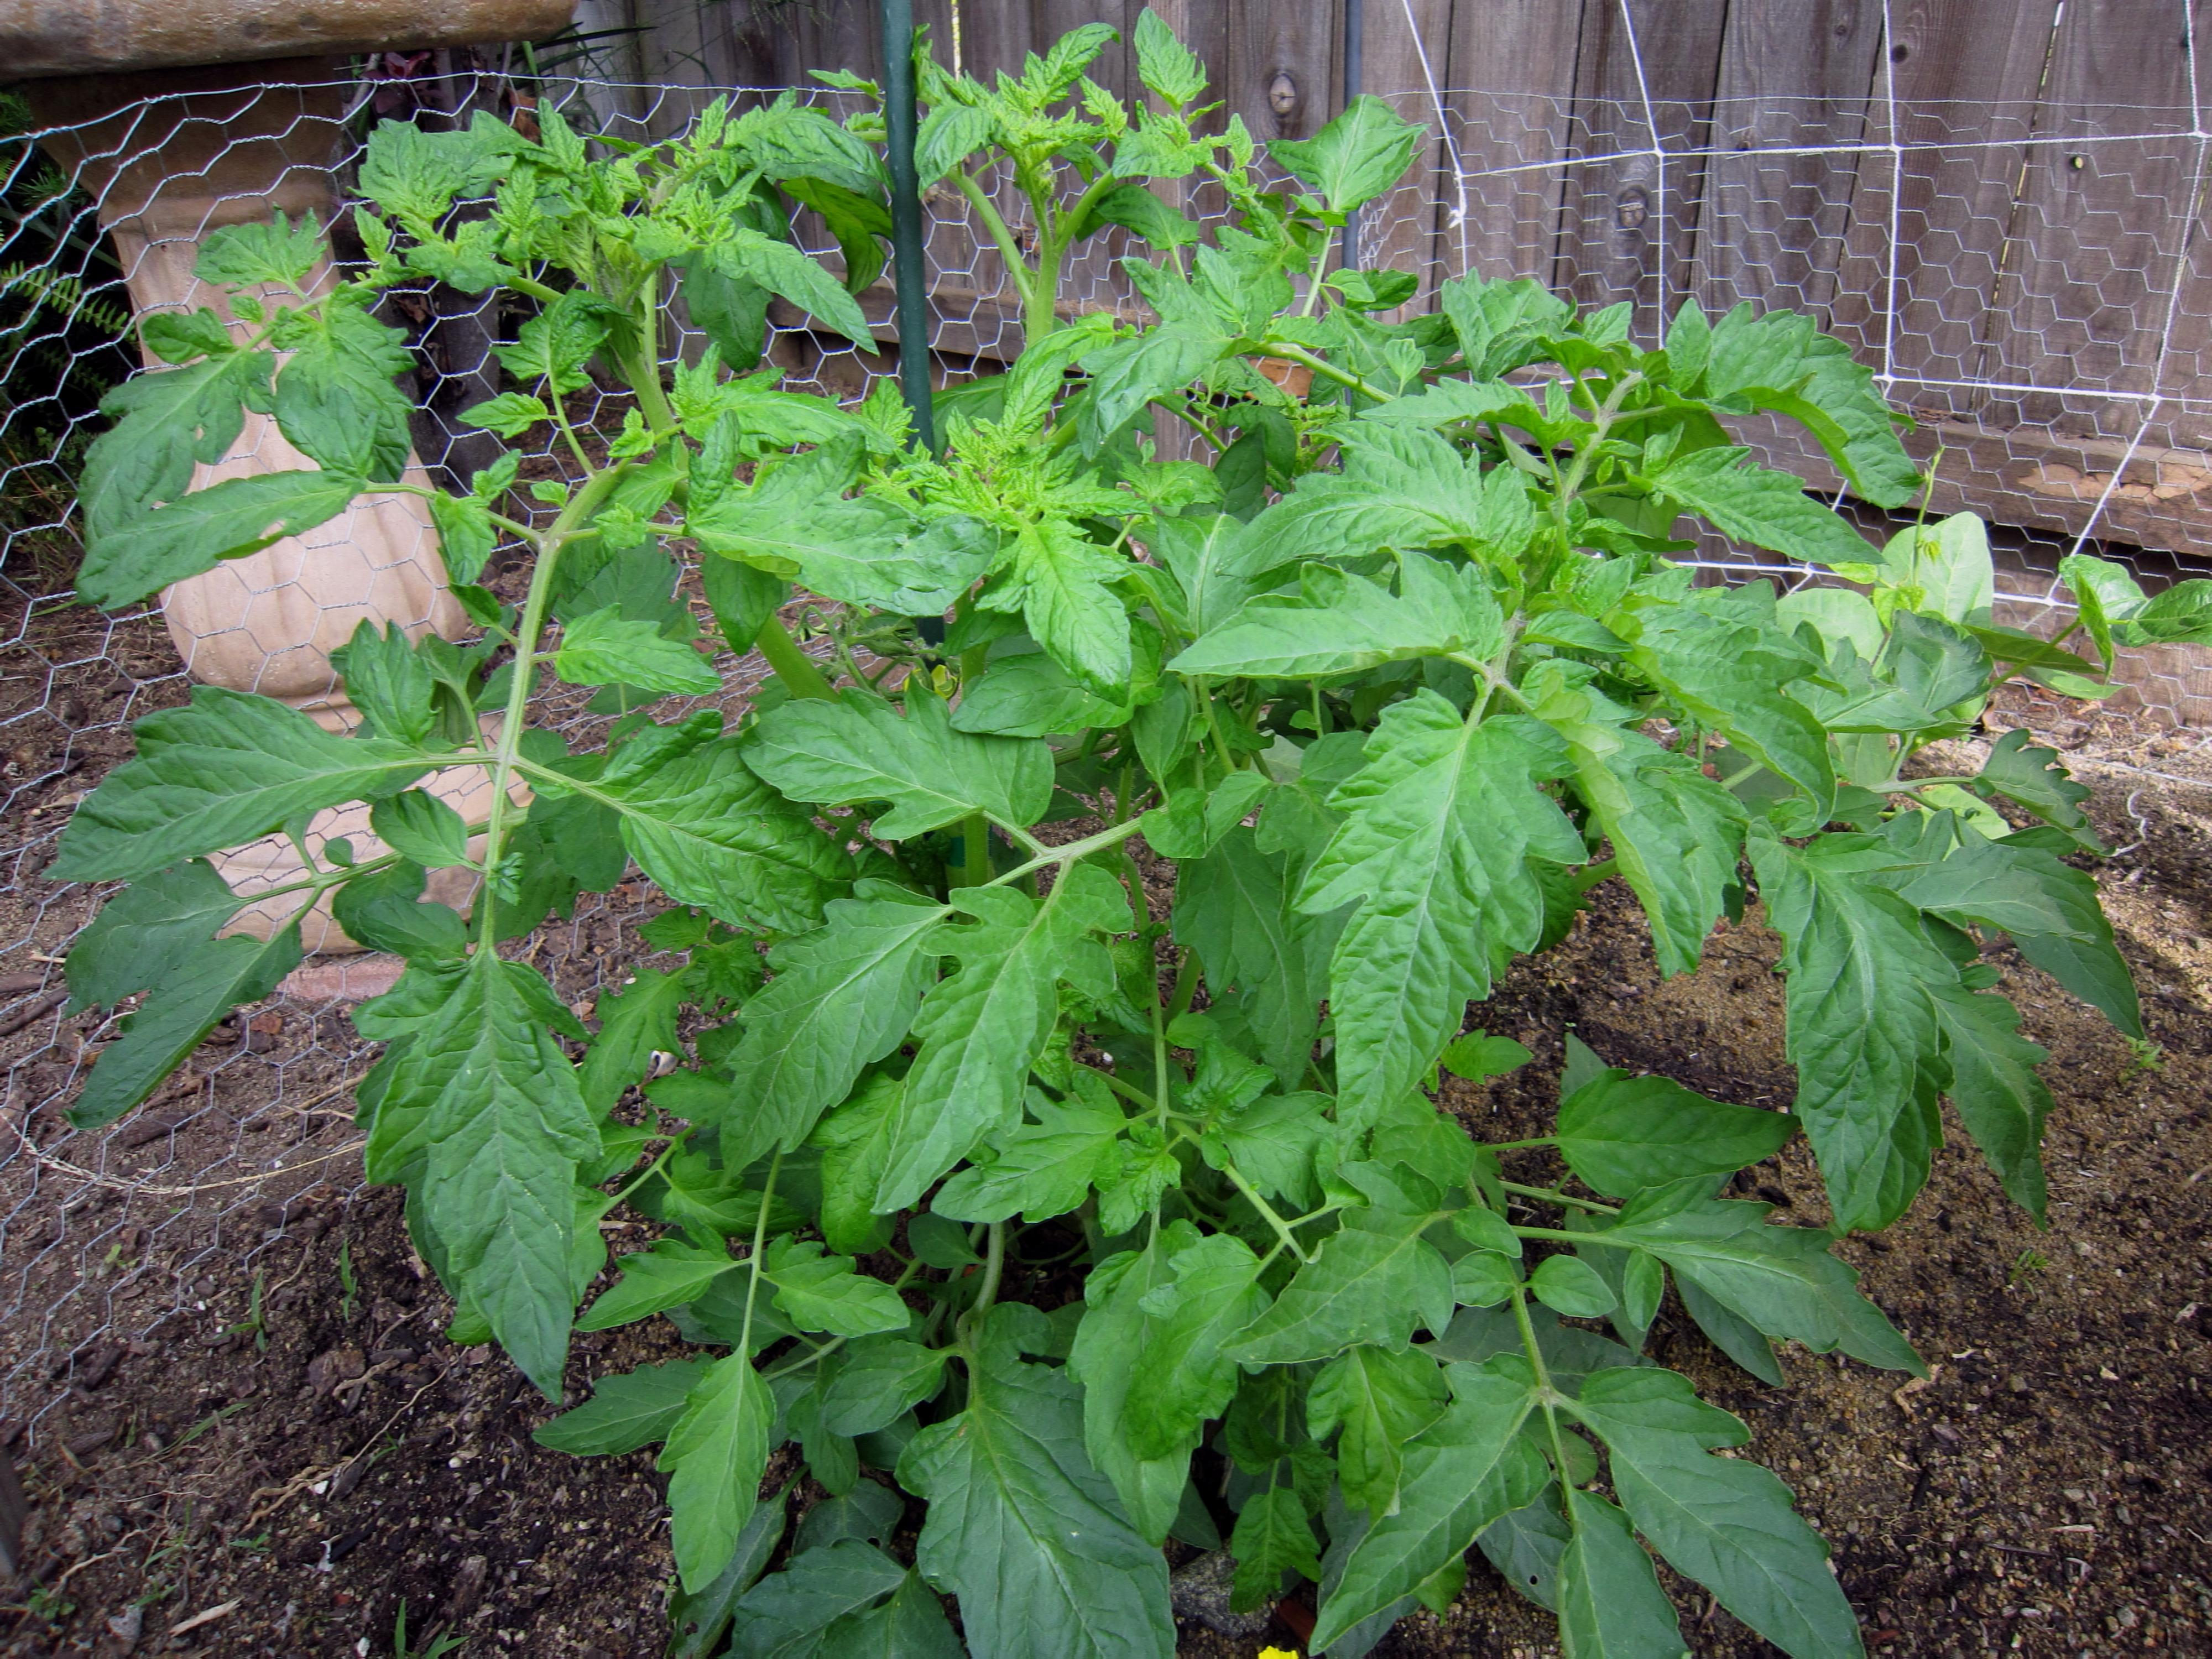Tomato leaf: (381, 960, 617, 1450), (82, 650, 462, 917), (1303, 711, 1552, 1114), (1749, 772, 1939, 1253), (892, 1337, 1162, 1649), (1291, 1359, 1564, 1659), (603, 432, 1029, 617), (1590, 1347, 1841, 1659), (705, 859, 946, 1182), (1648, 279, 1930, 535), (1157, 763, 1341, 1115), (75, 444, 361, 671), (735, 687, 1066, 882), (1233, 427, 1583, 608), (63, 894, 314, 1140), (1531, 659, 1733, 958), (1177, 556, 1496, 739), (1883, 805, 2146, 1026), (864, 913, 1043, 1236), (1625, 1185, 1904, 1392), (1230, 1195, 1487, 1419), (1109, 1211, 1298, 1485), (1623, 423, 1876, 613), (1555, 547, 1838, 713), (895, 1098, 1146, 1277), (1080, 244, 1303, 437), (657, 206, 888, 389), (1534, 1061, 1785, 1211), (1325, 350, 1590, 490), (991, 502, 1141, 713), (1151, 608, 1475, 685), (1275, 98, 1430, 244), (531, 605, 745, 706)
